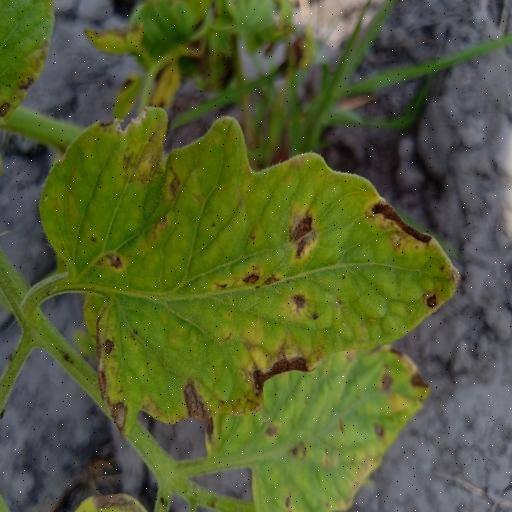Tomato_Brown_Spots: (38, 100, 464, 429), (201, 328, 436, 512)
